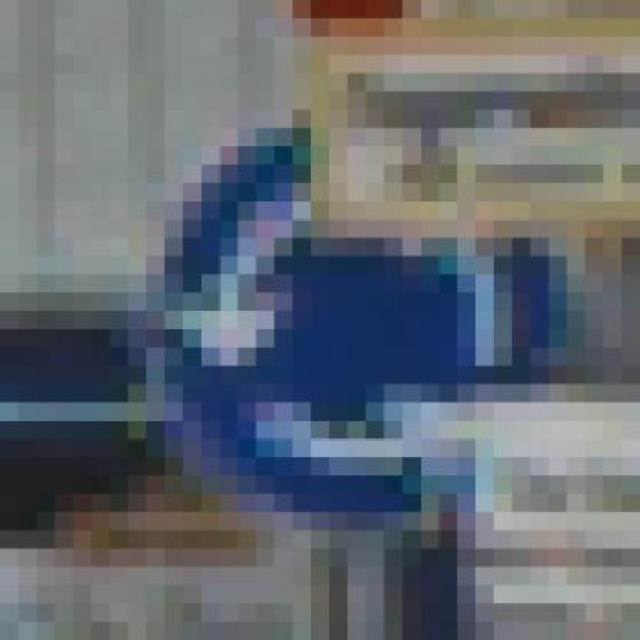Round-About: (91, 73, 604, 567)
